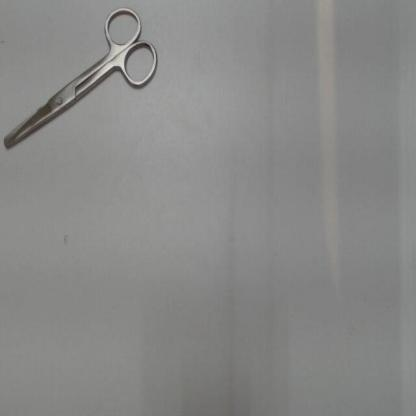Dressing Scissors: (0, 0, 165, 159)
